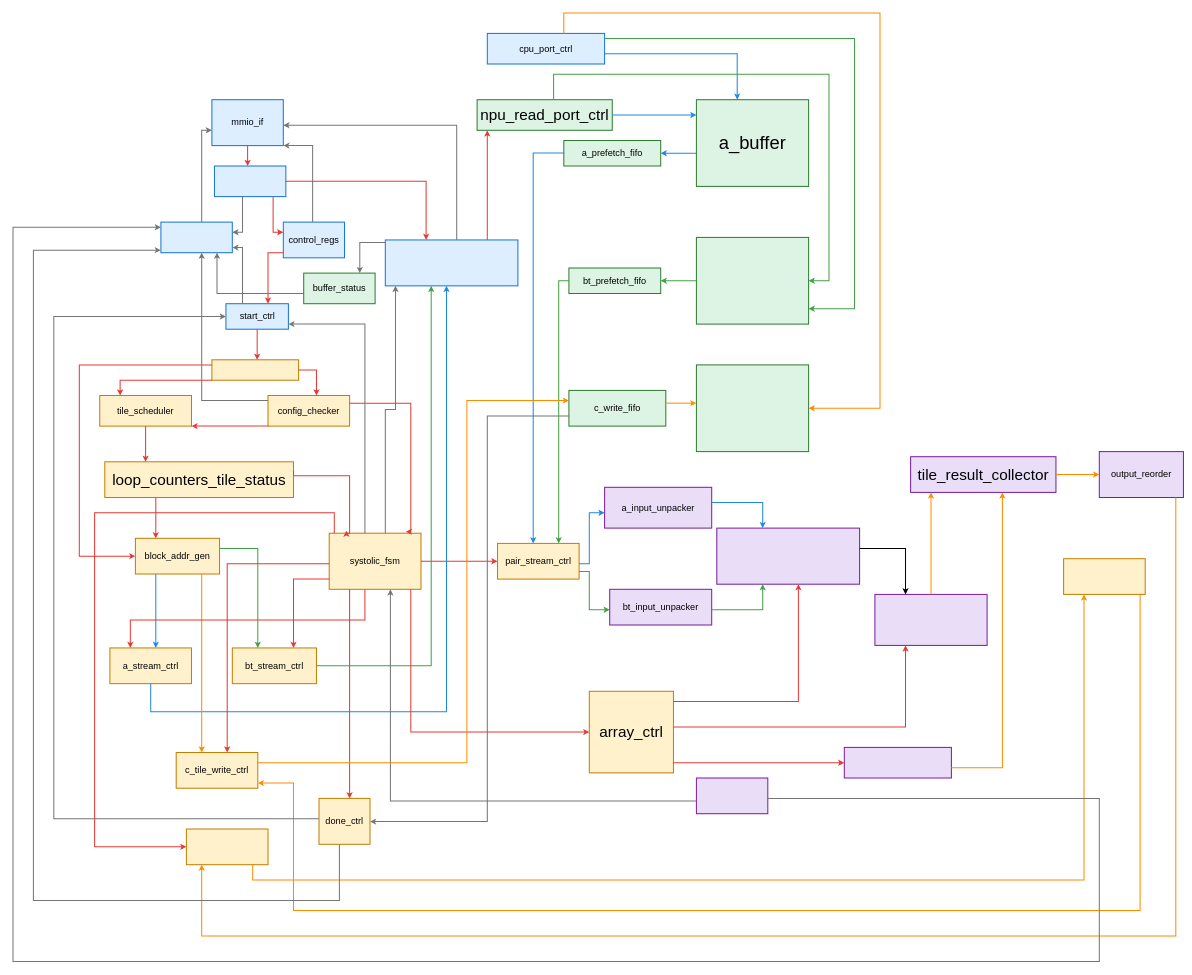
This 1192x975 diagram has some shape labels left out. Here are the shapes that lost their labels. From the top down, the box of each, then its label:
(214, 165, 286, 197): addr_decoder
(160, 221, 233, 253): status_regs
(385, 239, 518, 286): buffer_access_ctrl
(696, 237, 809, 324): bt_buffer
(211, 359, 299, 380): tile_param_latch
(696, 364, 809, 452): c_buffer
(716, 527, 860, 584): a_bt_skew_pipeline
(1063, 558, 1145, 595): result_quantizer
(874, 594, 987, 646): pe_array
(844, 747, 952, 778): drain_controller
(696, 777, 768, 814): mac_status
(186, 828, 268, 865): c_tile_acc_ctrl
